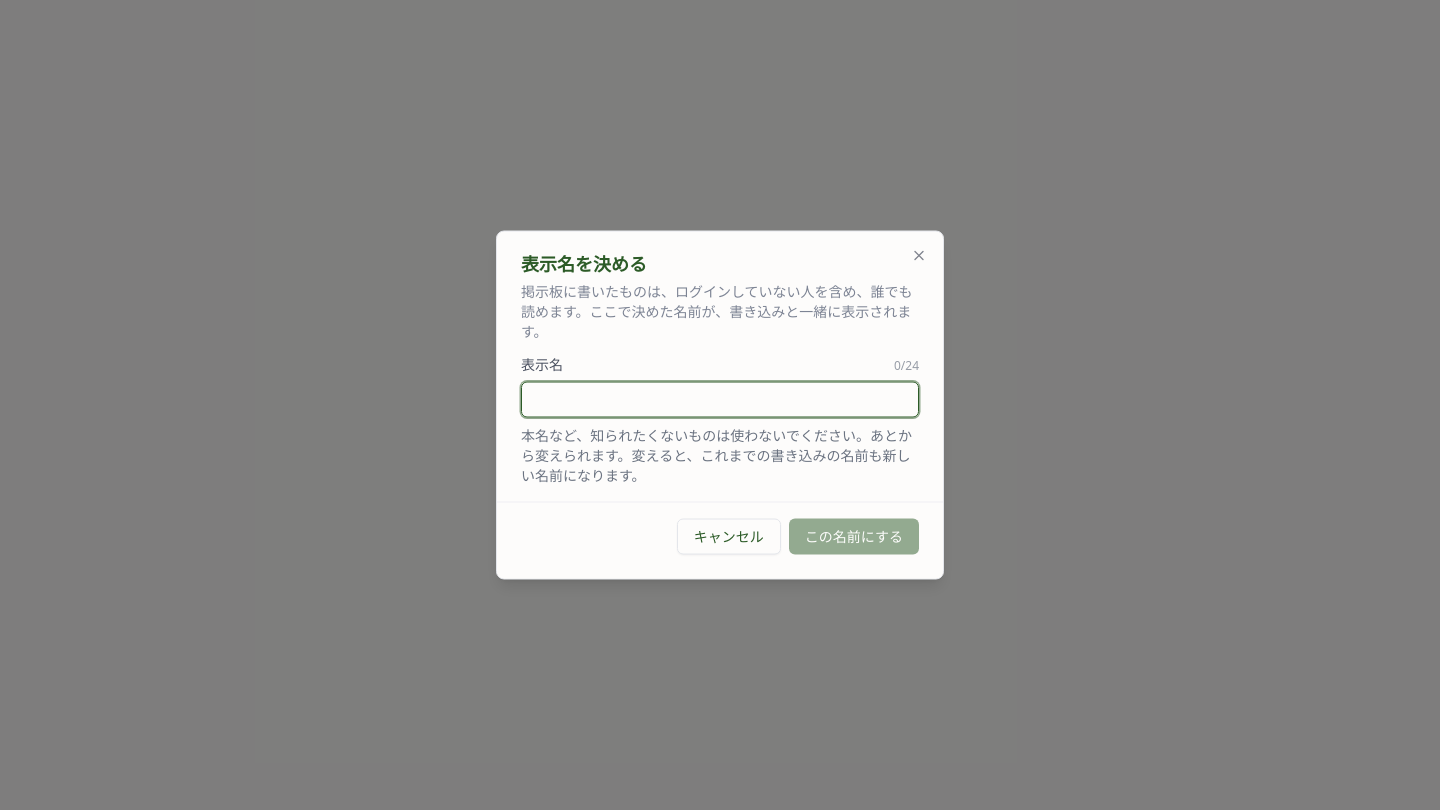
Test: NameDialog — 送信 › 配線が例外を投げても、入力を巻き上げず通信の失敗として出す
The image size is (1440, 810).
Type "青井" into the field labelled "表示名" at (720, 400), box [521, 382, 919, 418]
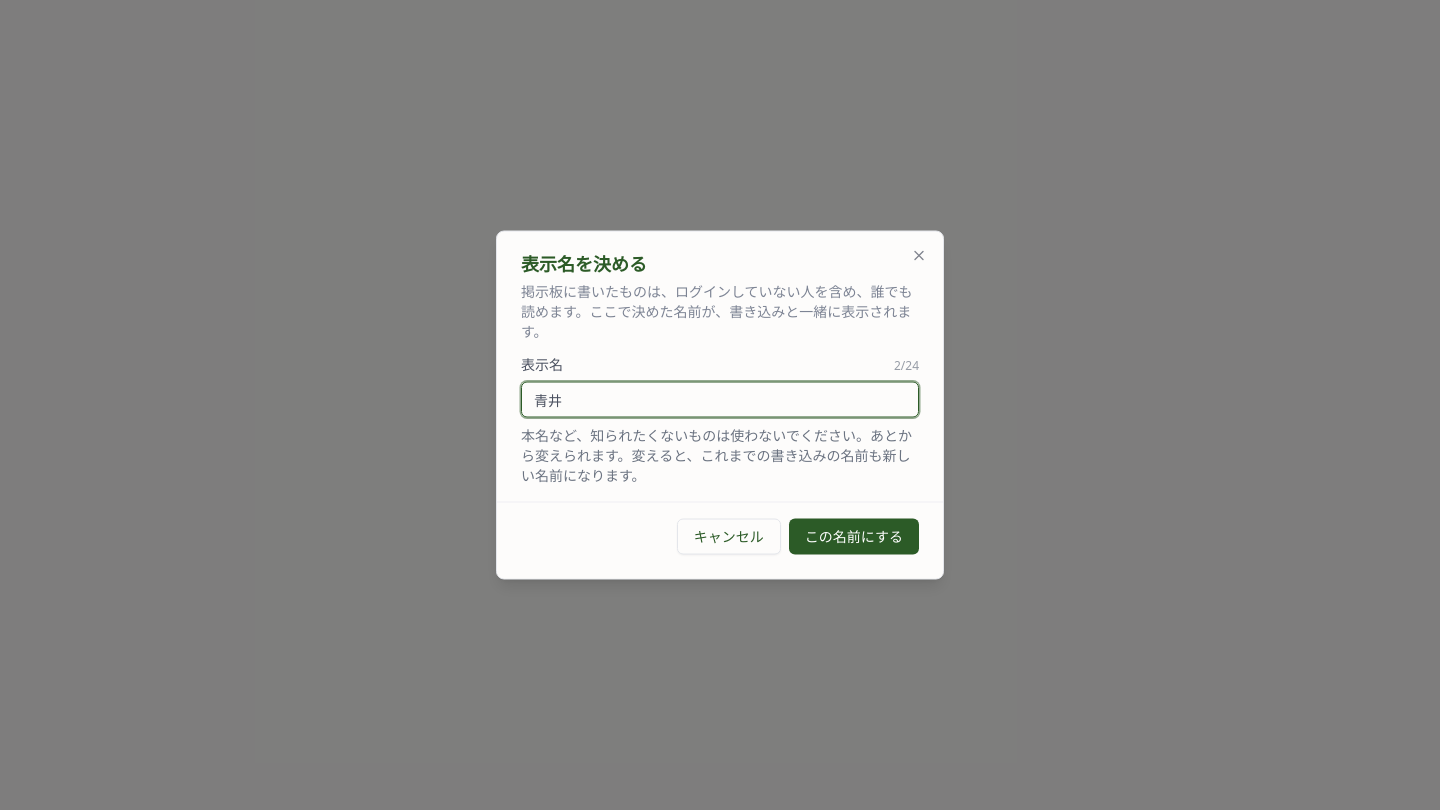
Click the button "この名前にする" at (854, 536), box [789, 518, 919, 554]
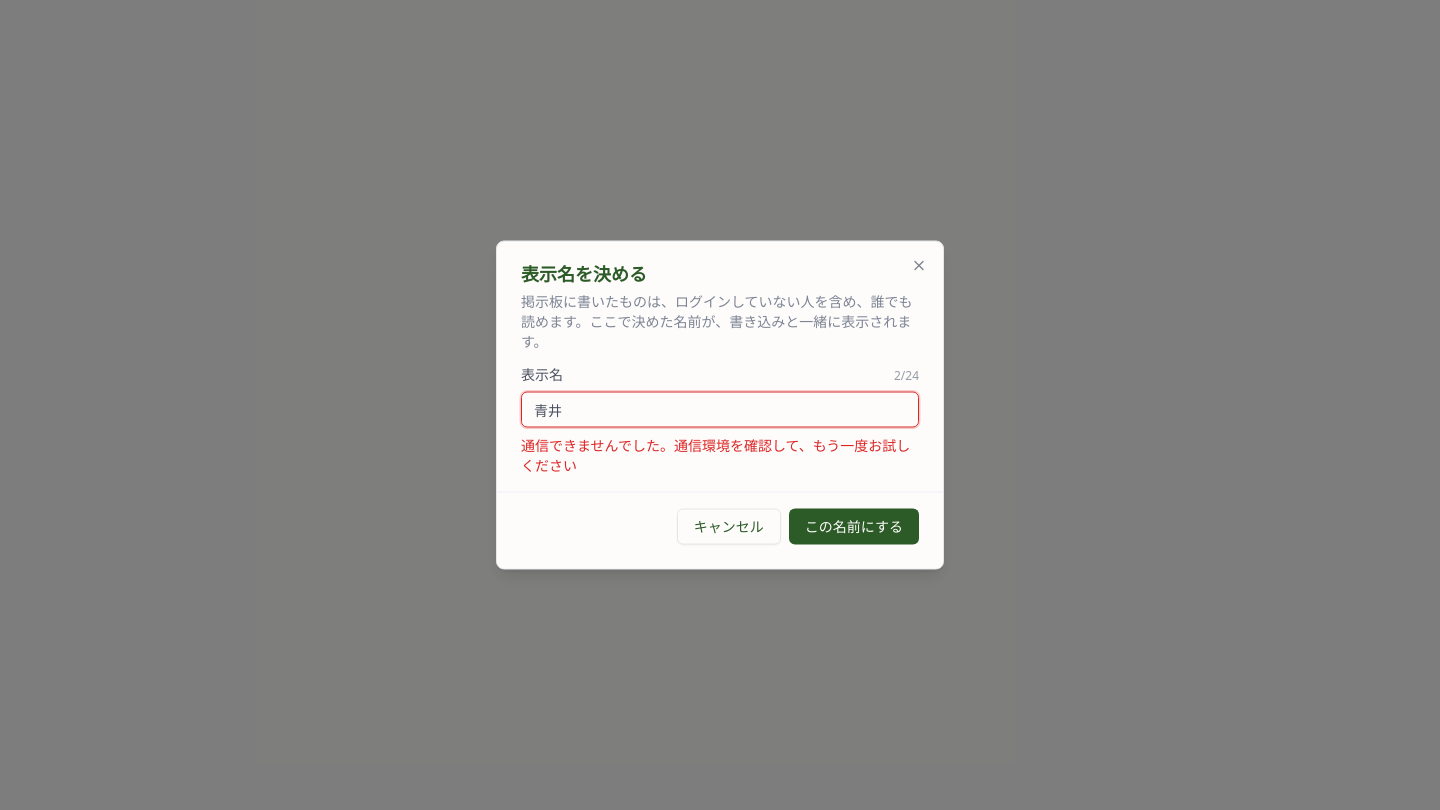
Now the message shows "通信できませんでした", box [521, 436, 910, 474]
